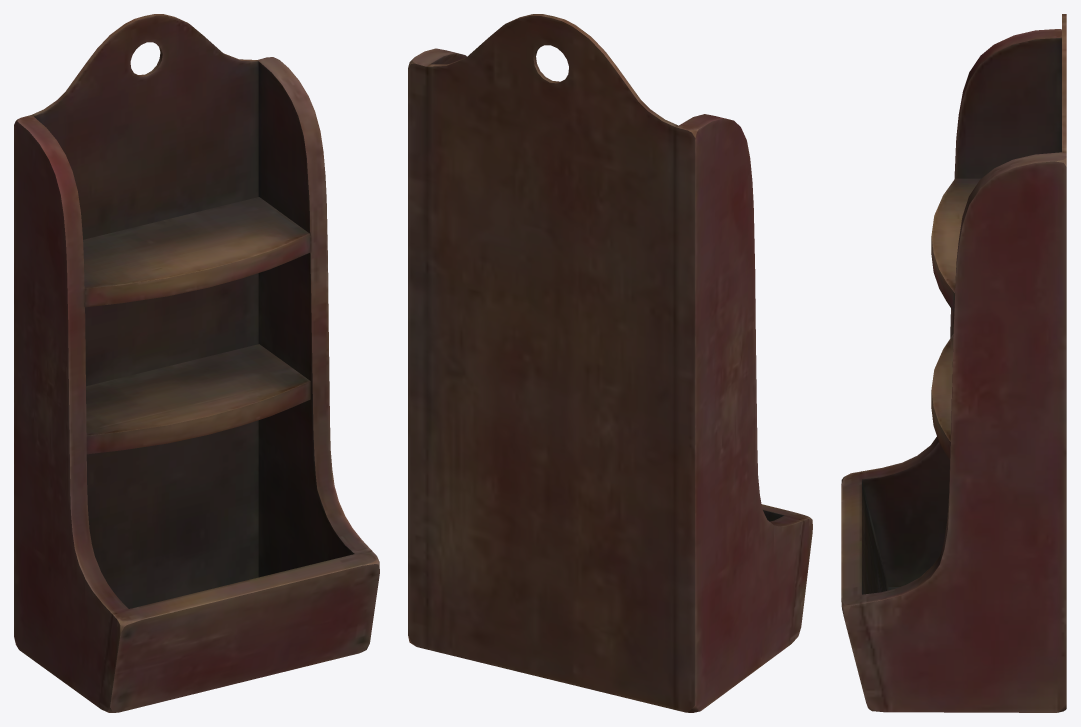
File: painted_wooden_shelves.glb
The picture shows the model from 3 angles, left to right: view 1: azimuth 30°, elevation 25°; view 2: azimuth 150°, elevation 25°; view 3: azimuth 270°, elevation 25°; orthographic projection. The views are drawn at different scales.
Parts seen in each view (by area): view 1: painted_wooden_shelves; view 2: painted_wooden_shelves; view 3: painted_wooden_shelves.
Boxes of the visible parts, bbox=[...] form: painted_wooden_shelves: bbox=[14, 14, 379, 712]; painted_wooden_shelves: bbox=[408, 14, 812, 712]; painted_wooden_shelves: bbox=[841, 14, 1066, 712].
Bounding box in the file's own units: 0.5111 × 1.13 × 0.3671.
1 material, 1 textured.
